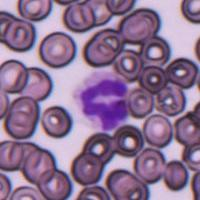N: (73, 70, 132, 132)
